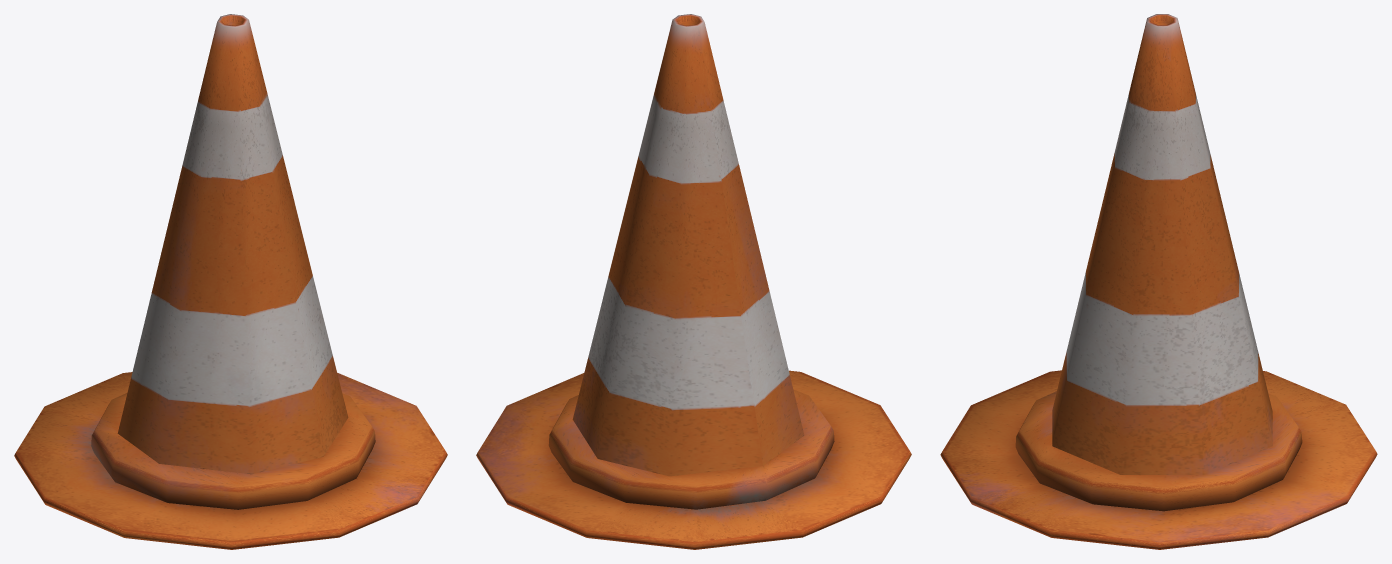
Rendered from CONO DE PISTA.fbx.
3 renders of one model, left to right at view 1: azimuth 30°, elevation 25°; view 2: azimuth 150°, elevation 25°; view 3: azimuth 270°, elevation 25°, orthographic.
Parts seen in each view (by area): view 1: CONO_DE_PISTA.001; view 2: CONO_DE_PISTA.001; view 3: CONO_DE_PISTA.001.
Boxes of the visible parts, x1=… form: CONO_DE_PISTA.001: x1=14, y1=14, x2=447, y2=549; CONO_DE_PISTA.001: x1=476, y1=14, x2=911, y2=549; CONO_DE_PISTA.001: x1=940, y1=14, x2=1377, y2=549.
Size of the model in its own units: 55.25 by 61.32 by 55.25.
